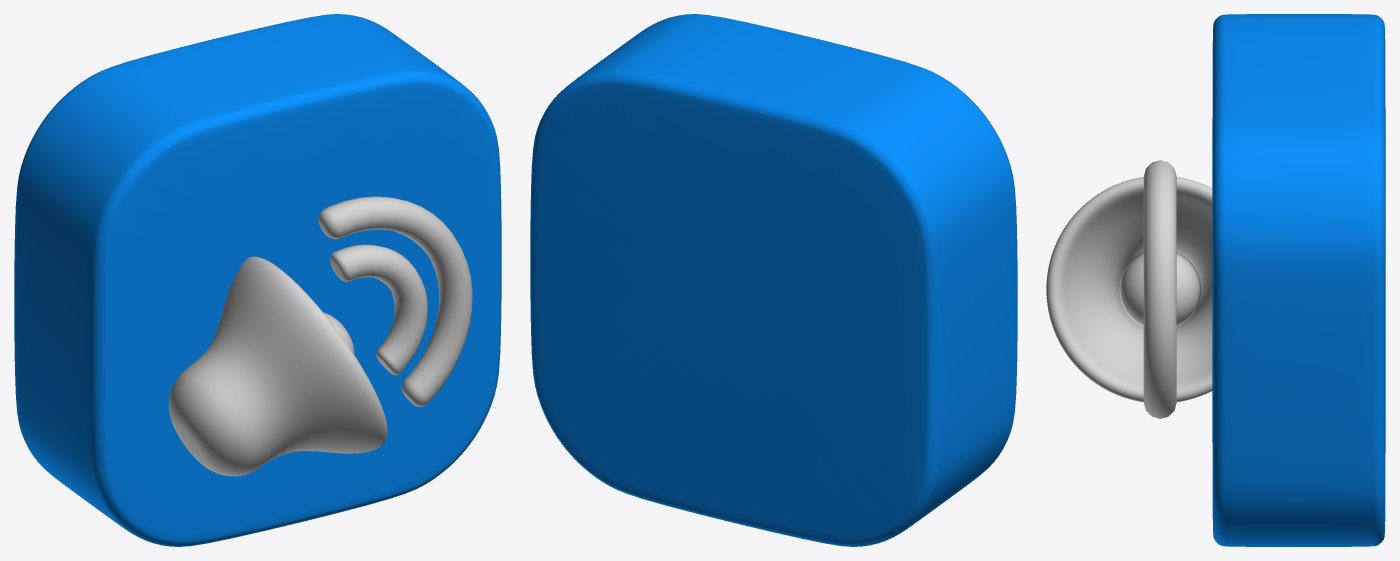
The model's file is listen-again-animated-3d-icon-305804343149.glb.
3 renders of one model, left to right at view 1: azimuth 30°, elevation 25°; view 2: azimuth 150°, elevation 25°; view 3: azimuth 270°, elevation 25°, orthographic.
Parts seen in each view (by area): view 1: Base.001, Sound, Voice 2, Voice 1; view 2: Base.001; view 3: Base.001, Sound, Voice 2.
Boxes of the visible parts, <box> form: Base.001: <box>14,14,501,546</box>; Sound: <box>168,256,387,476</box>; Voice 2: <box>318,196,472,406</box>; Voice 1: <box>330,244,427,375</box>; Base.001: <box>530,14,1017,546</box>; Base.001: <box>1212,14,1385,546</box>; Sound: <box>1046,177,1212,402</box>; Voice 2: <box>1143,160,1176,418</box>.
Size of the model in its own units: 2 by 2 by 1.45.
